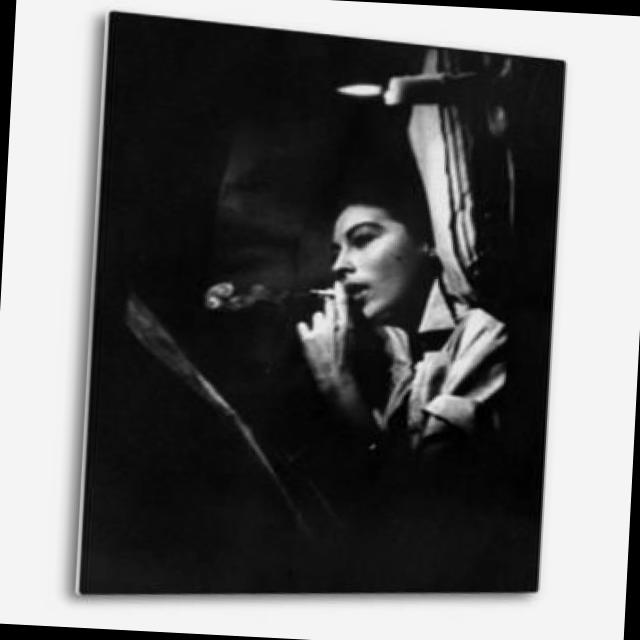cigarette: (312, 285, 338, 298)
